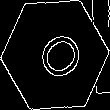O_SW: (25, 23, 85, 87)
